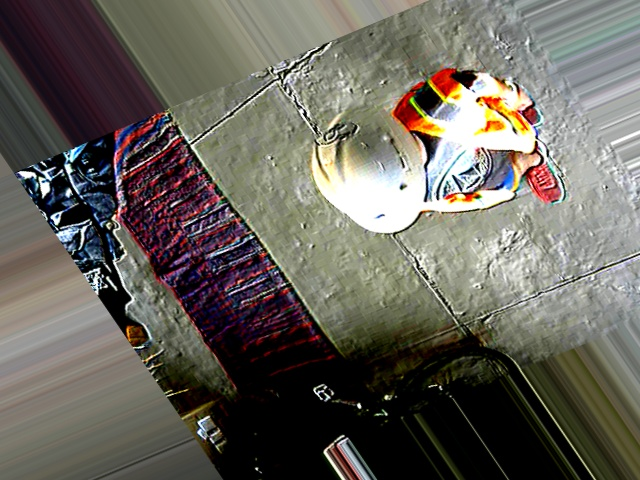eight: (310, 118, 362, 151)
